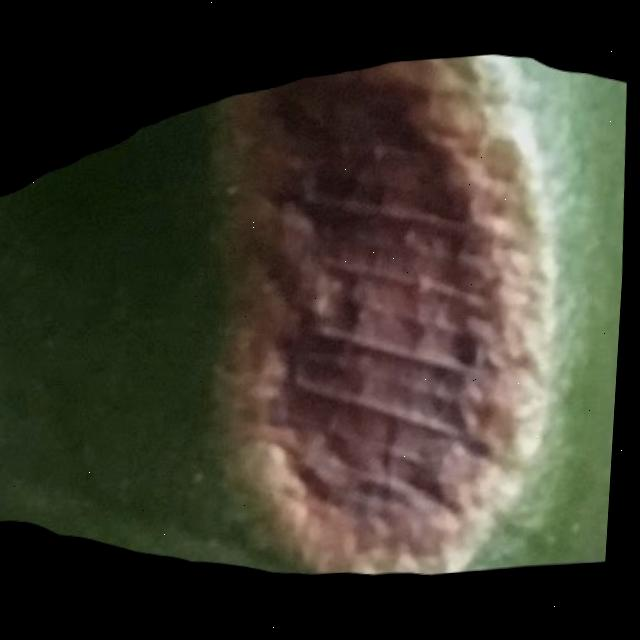mite: (0, 96, 262, 569), (475, 56, 628, 572), (311, 269, 365, 339), (314, 164, 360, 205), (33, 308, 70, 350), (453, 329, 483, 370), (399, 314, 430, 347), (188, 461, 215, 494), (220, 178, 245, 206), (41, 317, 64, 340), (193, 468, 210, 489), (574, 522, 588, 540), (224, 183, 240, 198)
sunburn: (207, 54, 564, 589)
